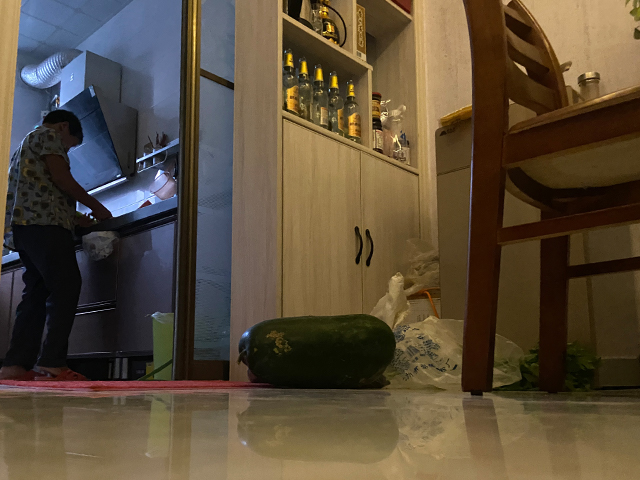cabinet: (238, 110, 430, 384), (1, 196, 179, 381)
carpet: (1, 378, 265, 395)
stool: (459, 1, 640, 398)
trashcan: (149, 311, 175, 382)
